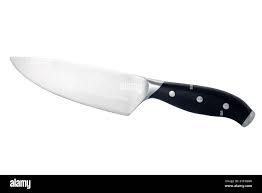Knife: (9, 55, 255, 127)
